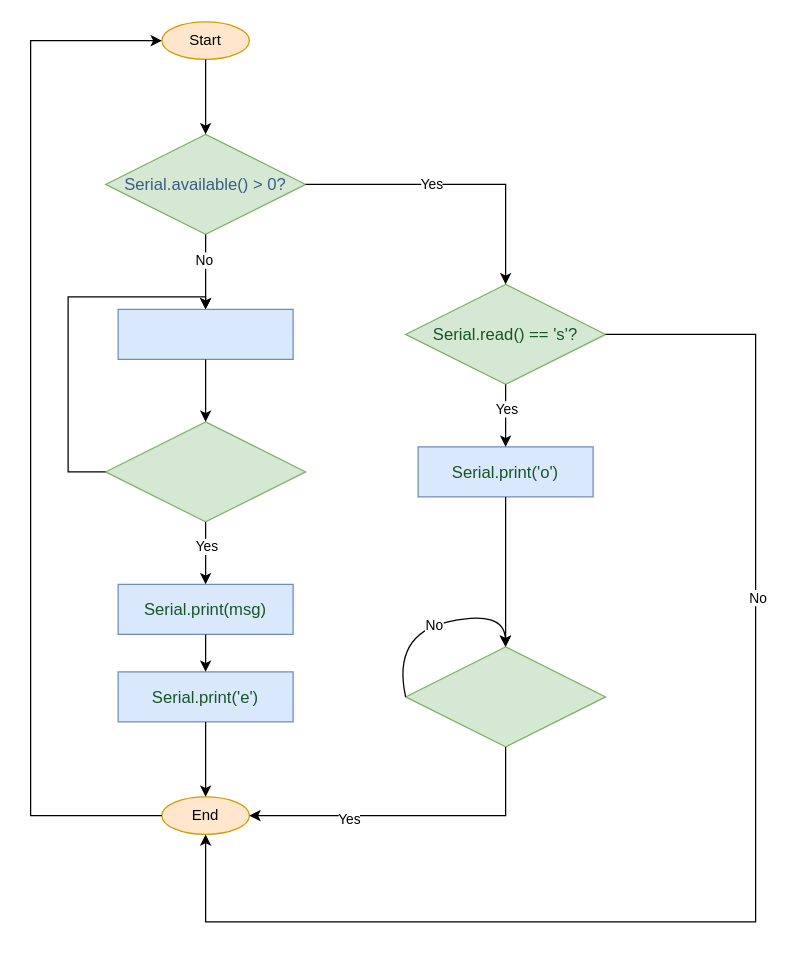
Some shapes in this 788 by 954 pixel diagram are drawn without their labels. The shapes that lost their labels are listed below. From the top down, each one's box as (x1, y1, x2, y2) in pixels, then its label:
(117, 308, 293, 359): Serial.print('s')
(104, 421, 306, 522): Serial.read() == 'o'?
(404, 646, 606, 747): Serial.read() == 'e'?
